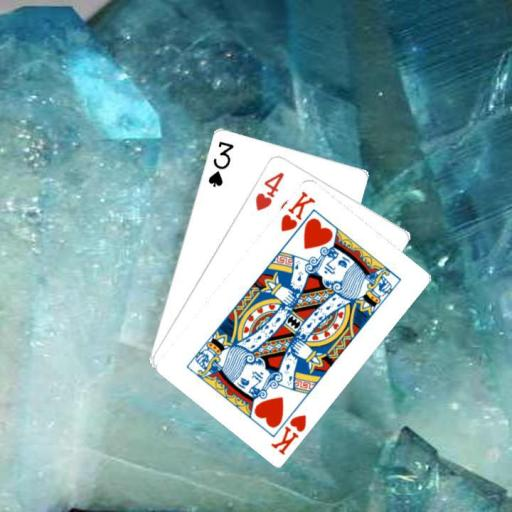3S: (204, 137, 235, 188)
4H: (252, 168, 286, 212)
KH: (267, 411, 308, 456), (277, 187, 317, 233)
